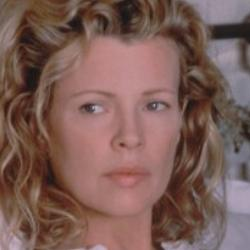face: (6, 4, 227, 245)
